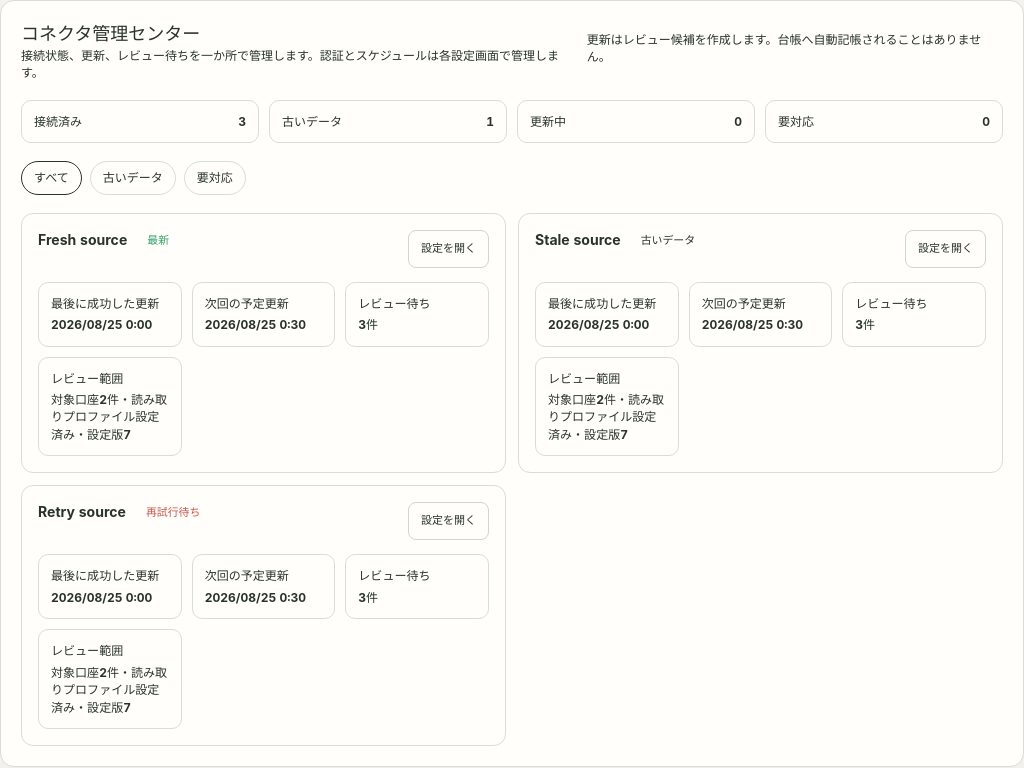
Test case: ConnectorControlCenter › filters stale and actionable connectors with pressed-state semantics
Step 1. Click the button "古いデータ" → (133, 178), box [90,161,176,195]
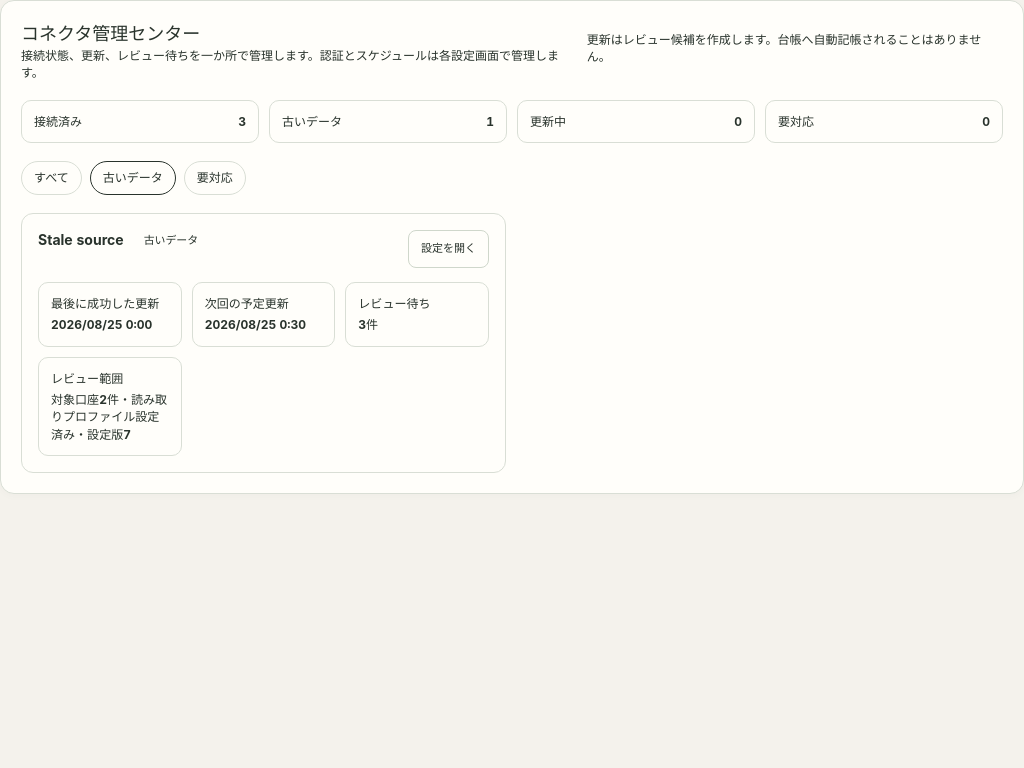
Check: the heading "Stale source" is shown, box [38,230,124,250]
Check: the heading "Fresh source" is gone
Step 2. Click the button "要対応" → (215, 178), box [184,161,246,195]
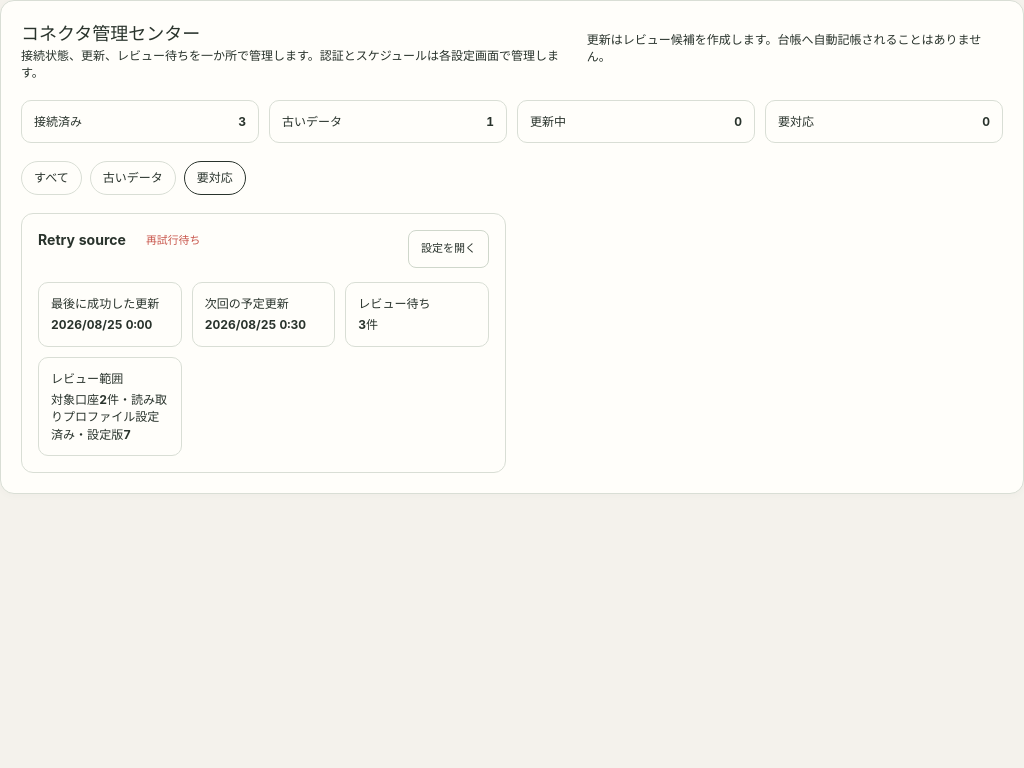
Check: the heading "Retry source" is shown, box [38,230,126,250]
Check: the heading "Stale source" is gone
